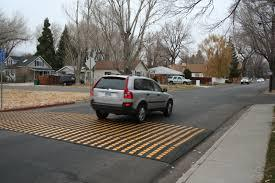Bump: (0, 107, 213, 167)
